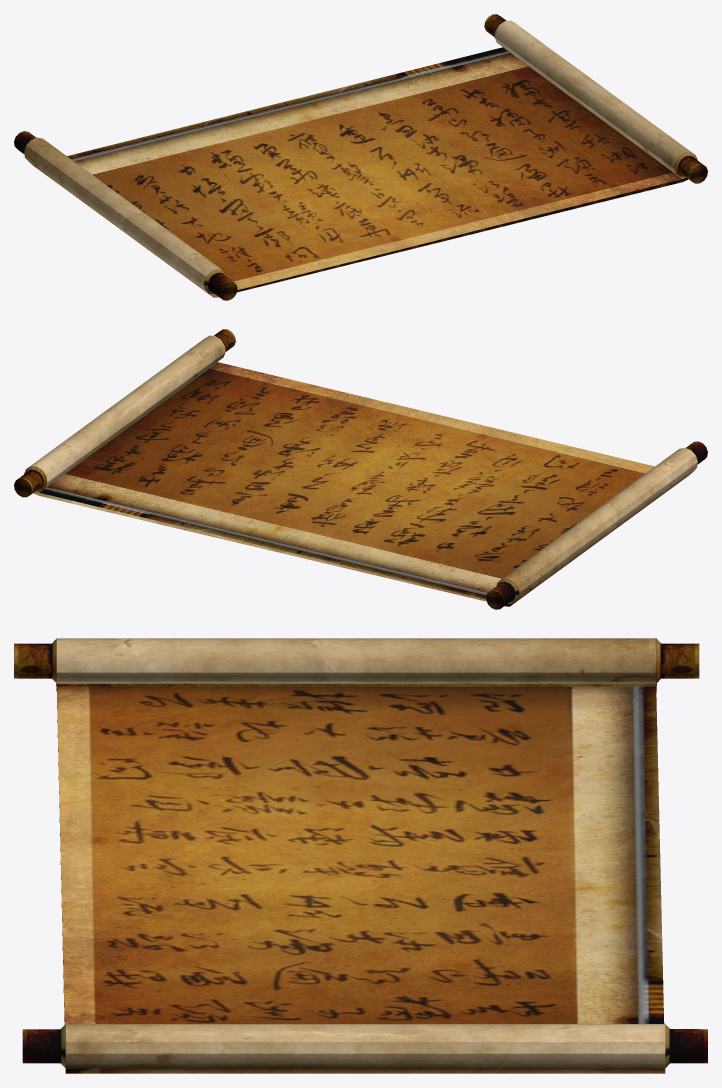
The model's file is ScrollPrint1.b.fbx.
3 renders of one model, top to bottom at view 1: azimuth 30°, elevation 25°; view 2: azimuth 150°, elevation 25°; view 3: azimuth 270°, elevation 25°, orthographic. The views are drawn at different scales.
Parts seen in each view (by area): view 1: Group 0; view 2: Group 0; view 3: Group 0.
Part boxes in pixels (box(x1,y1,x2,y2)): Group 0: box(14, 14, 707, 300); Group 0: box(14, 329, 707, 609); Group 0: box(14, 638, 707, 1073).
Size of the model in its own units: 80.43 by 4.51 by 58.43.
1 material, 1 textured.
